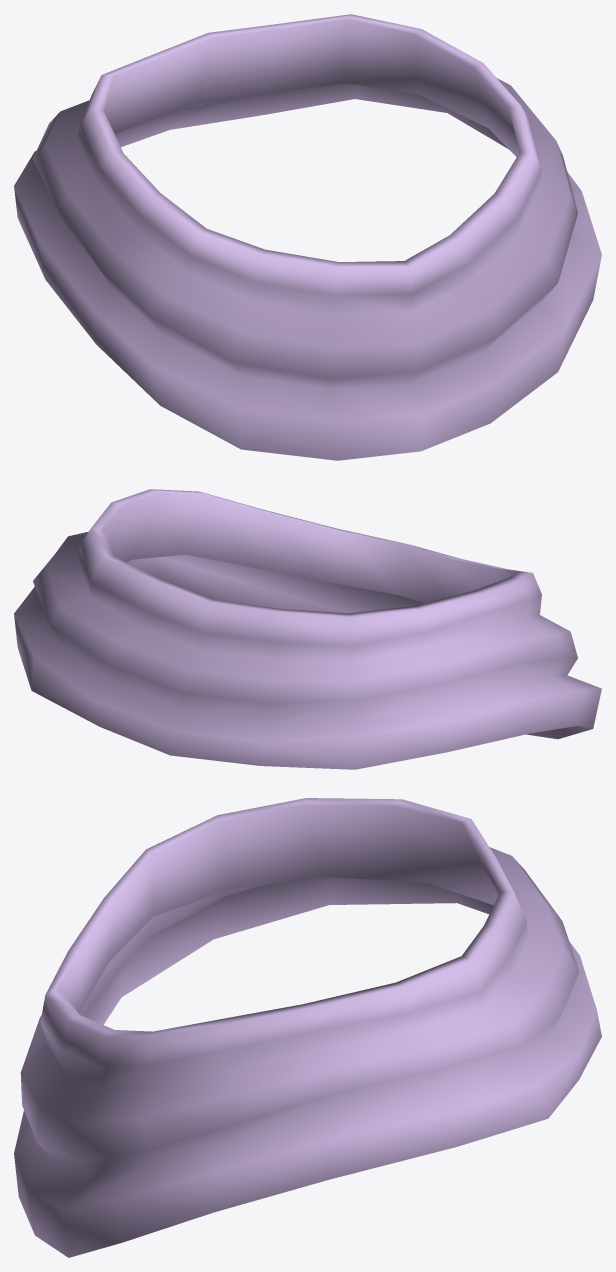
Rendered from turtle_neck.glb.
The picture shows the model from 3 angles, top to bottom: view 1: azimuth 30°, elevation 25°; view 2: azimuth 150°, elevation 25°; view 3: azimuth 270°, elevation 25°; orthographic projection. The views are drawn at different scales.
Parts seen in each view (by area): view 1: turtle_neck; view 2: turtle_neck; view 3: turtle_neck.
Boxes of the visible parts, bbox=[...] form: turtle_neck: bbox=[14, 14, 601, 460]; turtle_neck: bbox=[14, 489, 601, 769]; turtle_neck: bbox=[14, 798, 601, 1257].
Size of the model in its own units: 0.1579 by 0.0811 by 0.1408.
